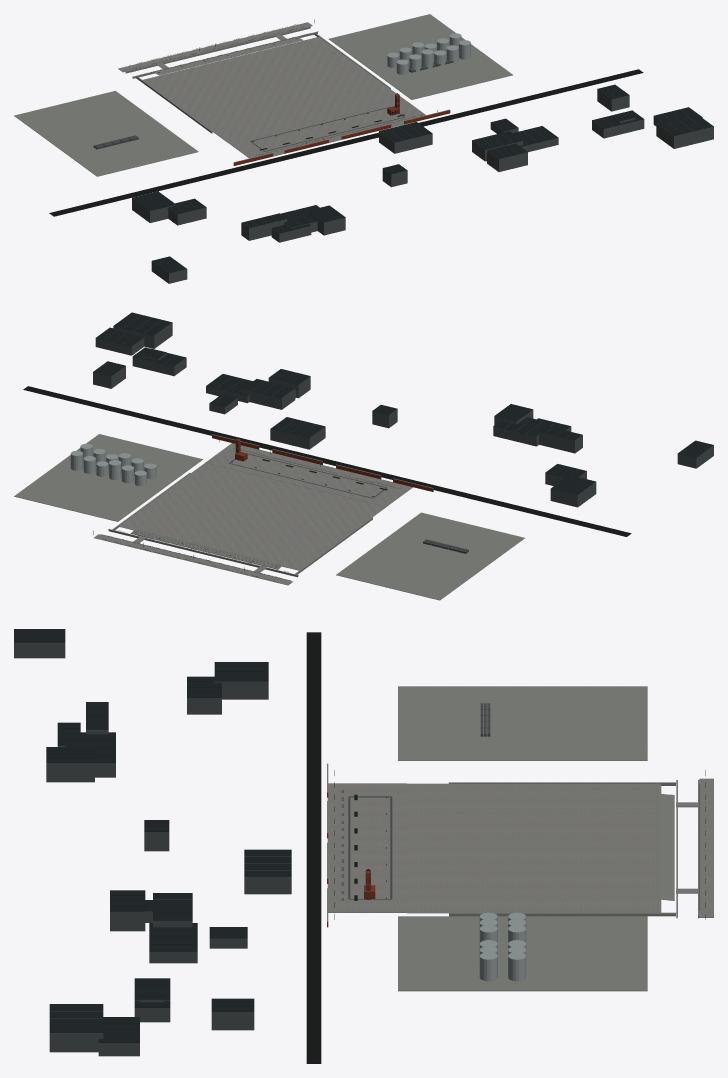
Rendered from stadium_docks.glb.
The picture shows the model from 3 angles, top to bottom: view 1: azimuth 30°, elevation 25°; view 2: azimuth 150°, elevation 25°; view 3: azimuth 270°, elevation 25°; orthographic projection. The views are drawn at different scales.
Visible parts, largest first — view 1: DistantDockLand_Stone, StadiumLand_Paving, DistantWarehouses_Warehouse, WarehousePanels_Slate, EasternFanPlaza_Paving, RegentRoad_Road, StorageTanks_Tank, WesternWharf_Paving, DockQuayWalls_Stone, WesternTerraceSteps_Stone, HistoricDockWall_Brick, GraniteQuayCaps_Stone; view 2: DistantDockLand_Stone, StadiumLand_Paving, DistantWarehouses_Warehouse, WarehousePanels_Slate, EasternFanPlaza_Paving, RegentRoad_Road, StorageTanks_Tank, WesternWharf_Paving, WesternTerraceSteps_Stone, GraniteQuayCaps_Stone, HistoricDockWall_Brick, DockQuayWalls_Stone; view 3: DistantDockLand_Stone, StadiumLand_Paving, WarehousePanels_Slate, DistantWarehouses_Warehouse, EasternFanPlaza_Paving, RegentRoad_Road, StorageTanks_Tank, WesternWharf_Paving, WesternTerraceSteps_Stone, GraniteQuayCaps_Stone, DockQuayWalls_Stone, FormerDockOutline_Cobbles.
Part boxes in pixels (<box>): DistantDockLand_Stone: <box>14,14,512,176</box>; StadiumLand_Paving: <box>143,37,403,141</box>; DistantWarehouses_Warehouse: <box>132,89,713,283</box>; WarehousePanels_Slate: <box>132,84,713,273</box>; EasternFanPlaza_Paving: <box>227,98,425,158</box>; RegentRoad_Road: <box>49,69,643,216</box>; StorageTanks_Tank: <box>387,33,470,74</box>; WesternWharf_Paving: <box>118,22,312,72</box>; DockQuayWalls_Stone: <box>125,27,390,133</box>; WesternTerraceSteps_Stone: <box>154,37,302,75</box>; HistoricDockWall_Brick: <box>233,110,450,165</box>; GraniteQuayCaps_Stone: <box>125,26,390,131</box>; DistantDockLand_Stone: <box>14,434,524,600</box>; StadiumLand_Paving: <box>118,463,385,570</box>; DistantWarehouses_Warehouse: <box>93,315,713,507</box>; WarehousePanels_Slate: <box>93,312,713,494</box>; EasternFanPlaza_Paving: <box>205,443,412,506</box>; RegentRoad_Road: <box>23,386,631,536</box>; StorageTanks_Tank: <box>70,443,156,486</box>; WesternWharf_Paving: <box>94,534,292,585</box>; WesternTerraceSteps_Stone: <box>131,529,282,569</box>; GraniteQuayCaps_Stone: <box>101,473,372,580</box>; HistoricDockWall_Brick: <box>212,435,433,491</box>; DockQuayWalls_Stone: <box>108,474,372,577</box>; DistantDockLand_Stone: <box>398,686,647,991</box>; StadiumLand_Paving: <box>407,783,661,913</box>; WarehousePanels_Slate: <box>14,629,291,1042</box>; DistantWarehouses_Warehouse: <box>14,642,291,1056</box>; EasternFanPlaza_Paving: <box>327,783,406,912</box>; RegentRoad_Road: <box>306,632,321,1063</box>; StorageTanks_Tank: <box>479,912,526,981</box>; WesternWharf_Paving: <box>699,778,713,917</box>; WesternTerraceSteps_Stone: <box>659,794,674,900</box>; GraniteQuayCaps_Stone: <box>448,780,699,916</box>; DockQuayWalls_Stone: <box>449,783,699,918</box>; FormerDockOutline_Cobbles: <box>348,796,392,899</box>.
Size of what is drawn, in the model's own units: 900 by 31.6 by 617.
14 materials, 3 textured.
